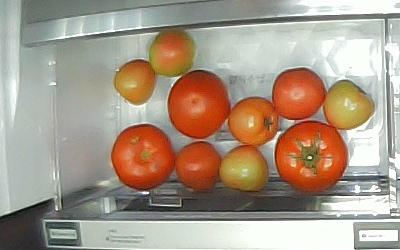tomato: (275, 122, 349, 192), (167, 70, 231, 139), (111, 123, 174, 190), (272, 68, 327, 120), (323, 79, 375, 129), (228, 97, 279, 145), (148, 28, 196, 77), (174, 141, 221, 190), (220, 145, 269, 191), (114, 59, 155, 106)
